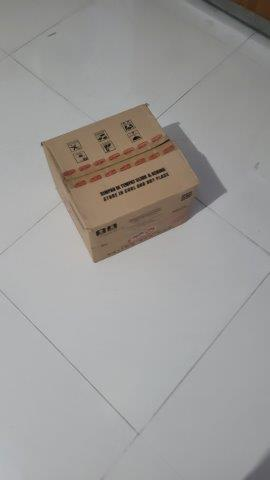kardus: (42, 105, 200, 264)
